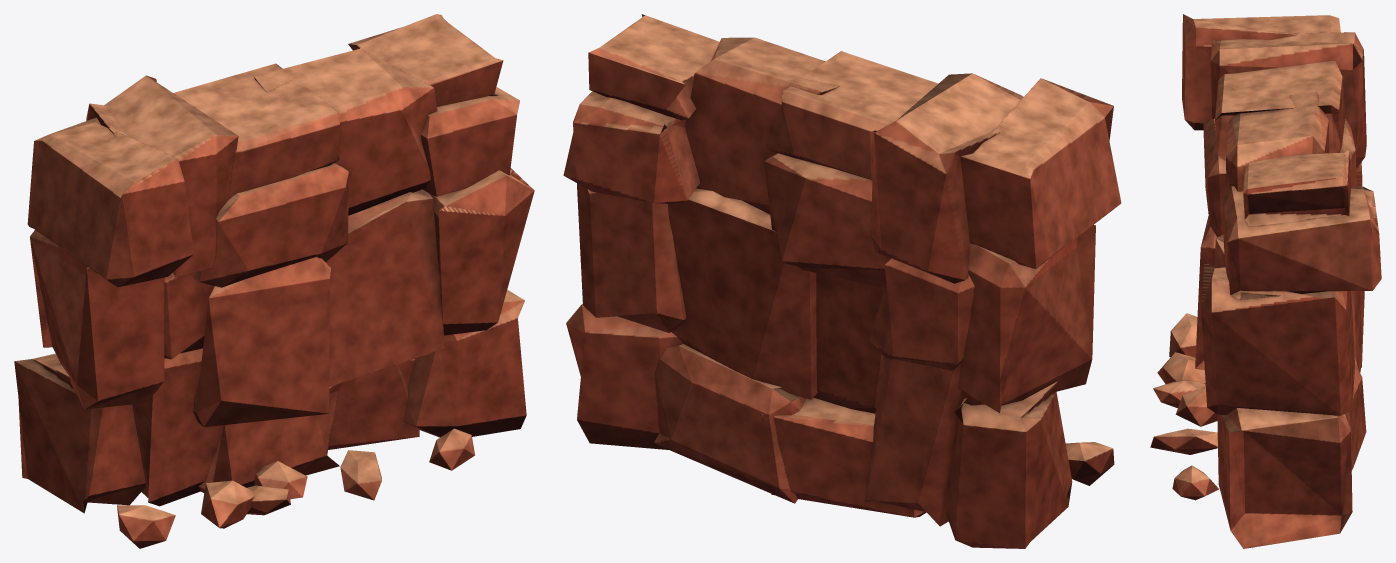
Rendered from Env_CliffRed_2.glb.
3 views of the same model, side by side, from view 1: azimuth 30°, elevation 25°; view 2: azimuth 150°, elevation 25°; view 3: azimuth 270°, elevation 25° (orthographic). The views are drawn at different scales.
Visible parts, largest first — view 1: Env_CliffRed_2.001; view 2: Env_CliffRed_2.001; view 3: Env_CliffRed_2.001.
Boxes of the visible parts, bbox=[...] form: Env_CliffRed_2.001: bbox=[14, 14, 534, 548]; Env_CliffRed_2.001: bbox=[563, 14, 1121, 548]; Env_CliffRed_2.001: bbox=[1150, 14, 1381, 548].
Bounding box in the file's own units: 12 × 9.8 × 5.68.
1 material, 1 textured.
